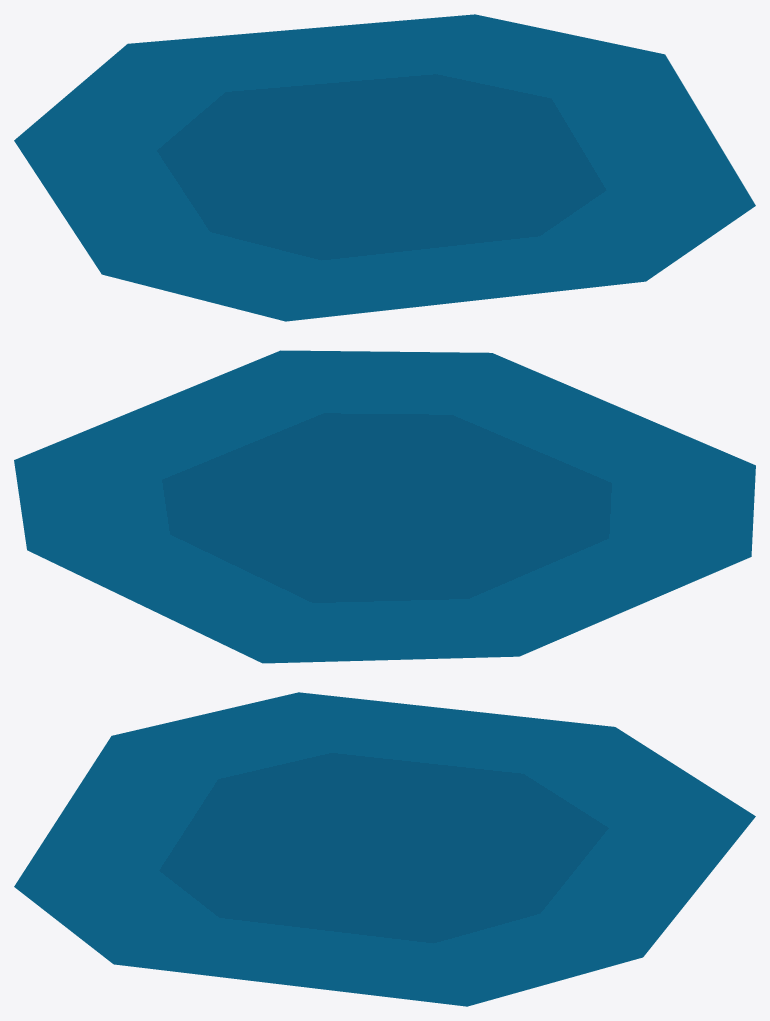
Rendered from kd_connection_world-inner_surface_11_0.glb.
The picture shows the model from 3 angles, top to bottom: view 1: azimuth 30°, elevation 25°; view 2: azimuth 150°, elevation 25°; view 3: azimuth 270°, elevation 25°; orthographic projection.
Visible parts, largest first — view 1: kd_connection_world-inner_surface_11_0; view 2: kd_connection_world-inner_surface_11_0; view 3: kd_connection_world-inner_surface_11_0.
Part boxes in pixels (x1,y1,x2,y2): kd_connection_world-inner_surface_11_0: (14,14,755,321); kd_connection_world-inner_surface_11_0: (14,350,755,663); kd_connection_world-inner_surface_11_0: (14,692,755,1006).
Size of the model in its own units: 63.59 by 0 by 63.44.
1 material, 1 textured.
